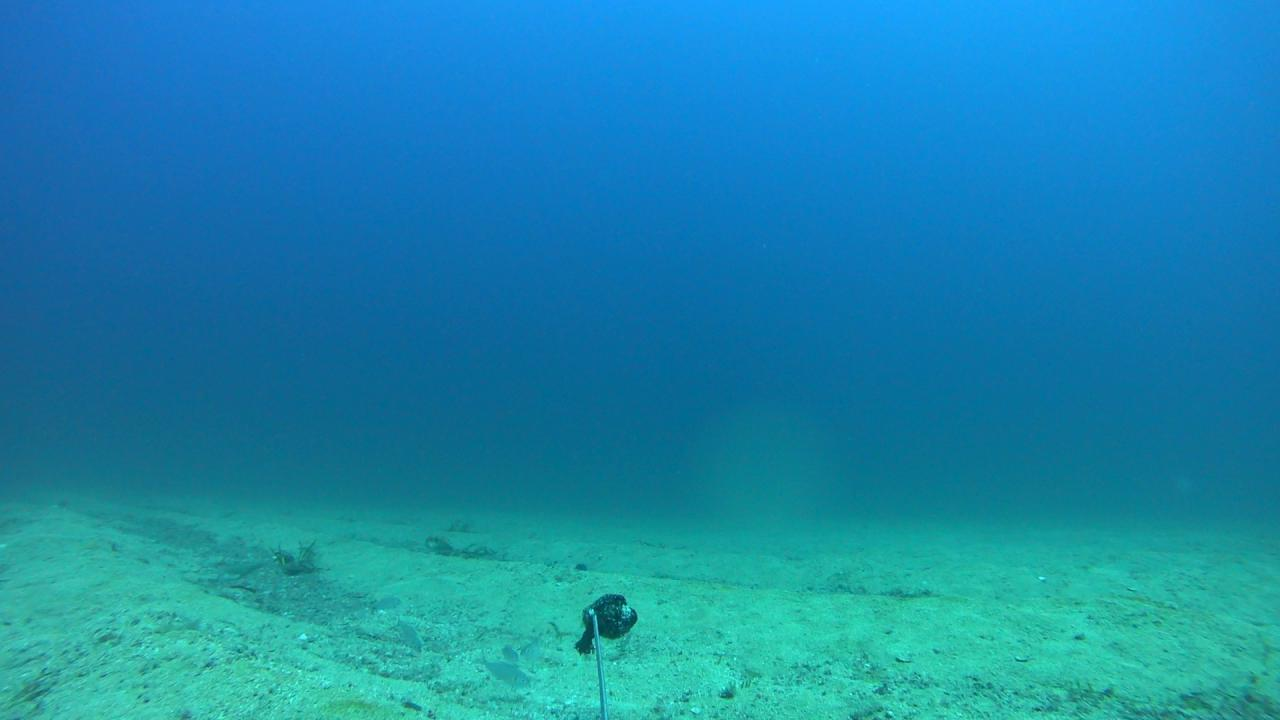pagellus: (472, 649, 529, 691), (388, 613, 424, 658), (366, 595, 402, 611)
